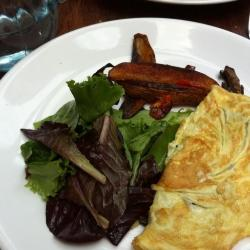omelette: (152, 93, 249, 249)
salad: (40, 98, 151, 230)
